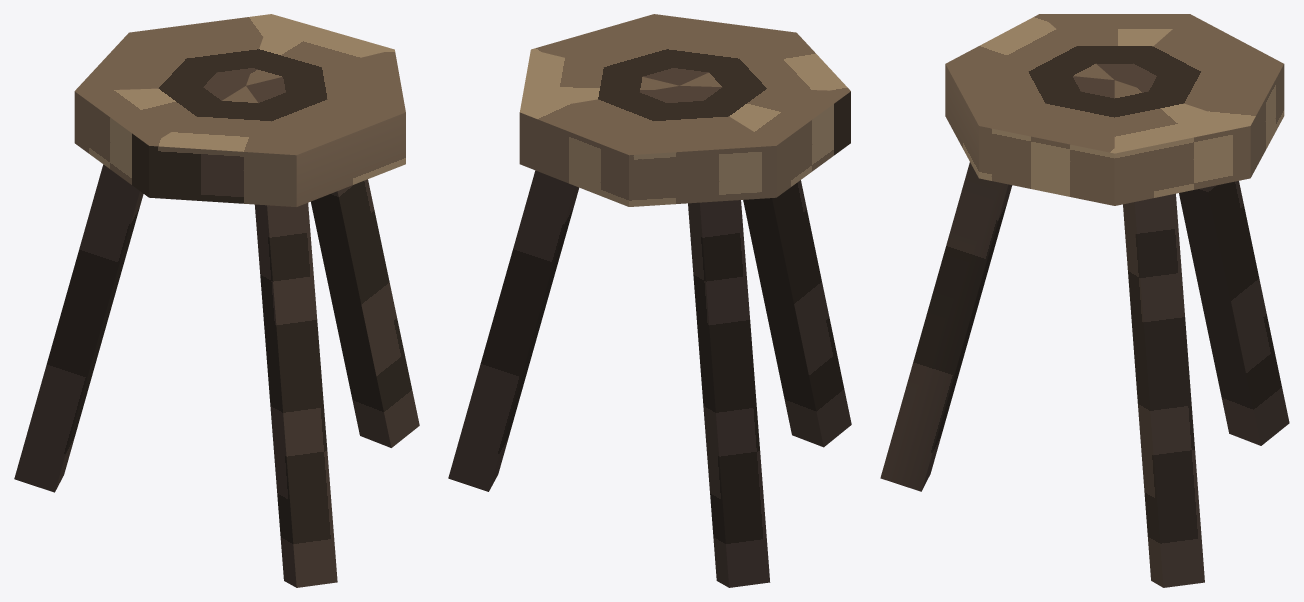
File: mprop.bench__stool.glb
3 views of the same model, side by side, from view 1: azimuth 30°, elevation 25°; view 2: azimuth 150°, elevation 25°; view 3: azimuth 270°, elevation 25° (orthographic).
Parts seen in each view (by area): view 1: kit_seat, kit_legs; view 2: kit_seat, kit_legs; view 3: kit_seat, kit_legs.
Boxes of the visible parts, x1,y1,x2,y2 form: kit_seat: (74, 14, 405, 206); kit_legs: (14, 164, 419, 587); kit_seat: (519, 14, 850, 206); kit_legs: (448, 170, 851, 587); kit_seat: (945, 14, 1284, 205); kit_legs: (880, 162, 1289, 587).
Bounding box in the file's own units: 0.4342 × 0.48 × 0.424.
2 materials, 2 textured.
